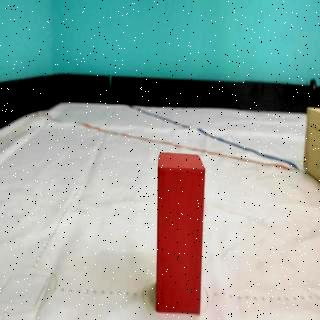redbox: (157, 154, 202, 316)
